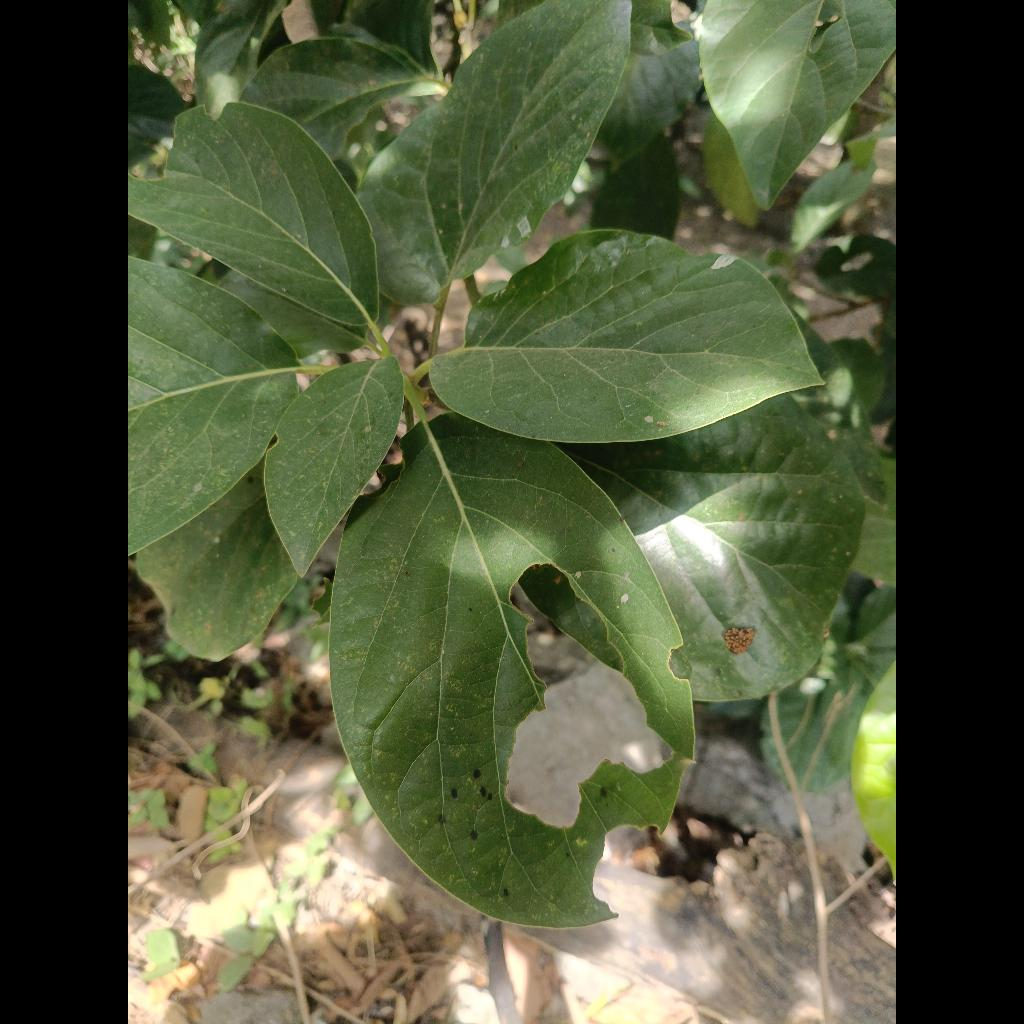plaga: (331, 413, 693, 927)
